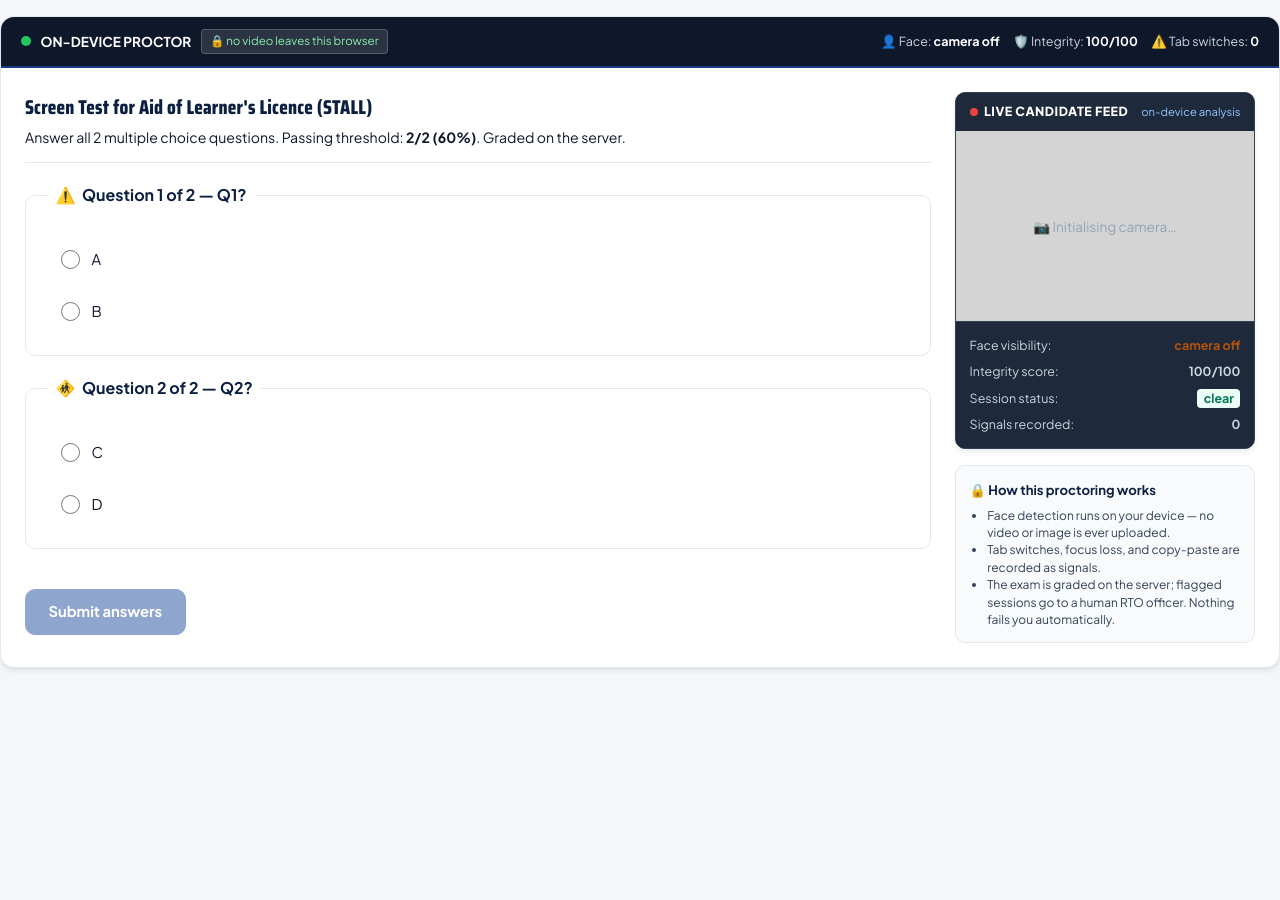
LLQuiz (server-graded) › passes the returned journey state up when the server says passed
The image size is (1280, 900).
Click the radio button labelled "A". click: coordinates (70, 259)
box: [61,250,80,269]
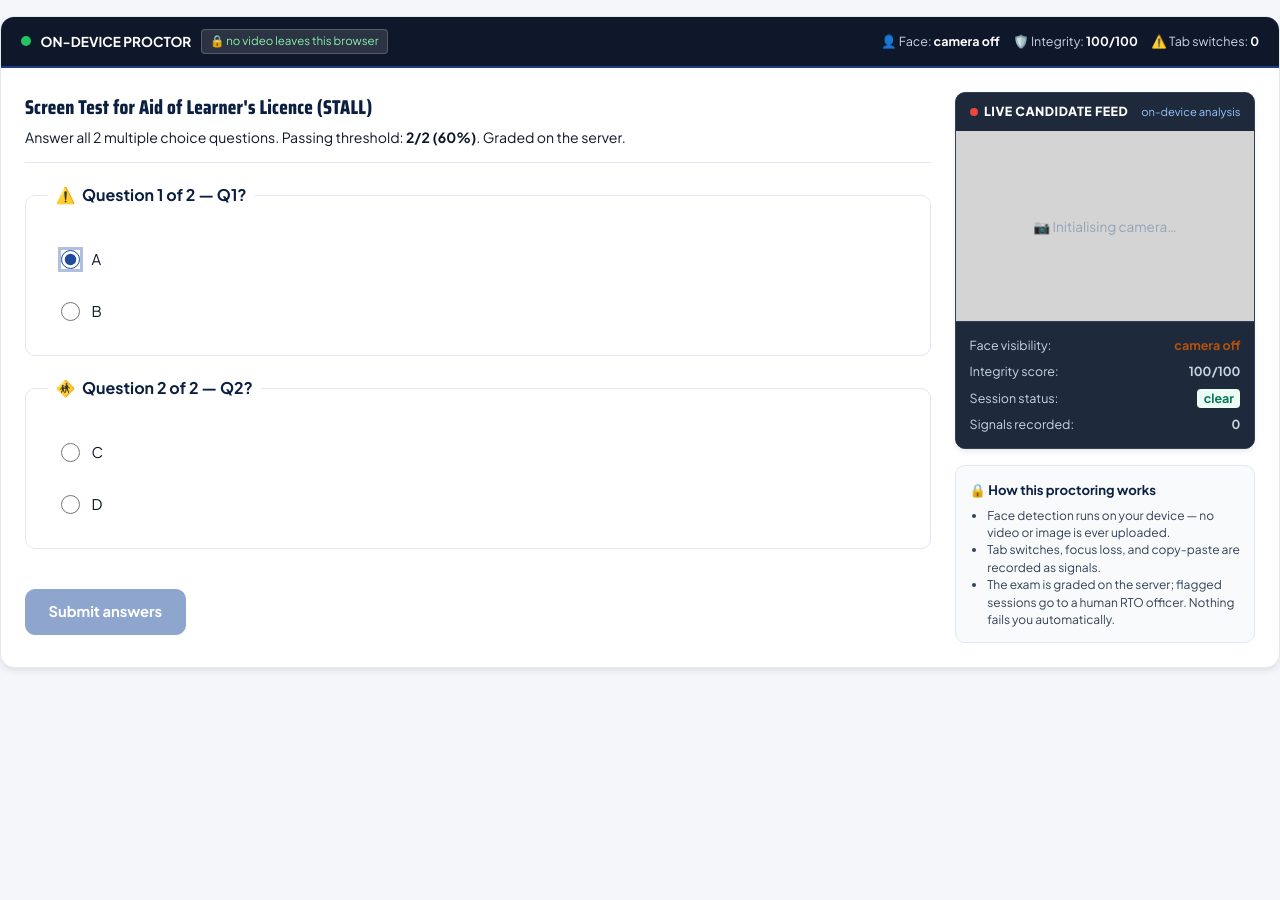
Click the radio button labelled "D". click: coordinates (70, 504)
box: [61,495,80,514]
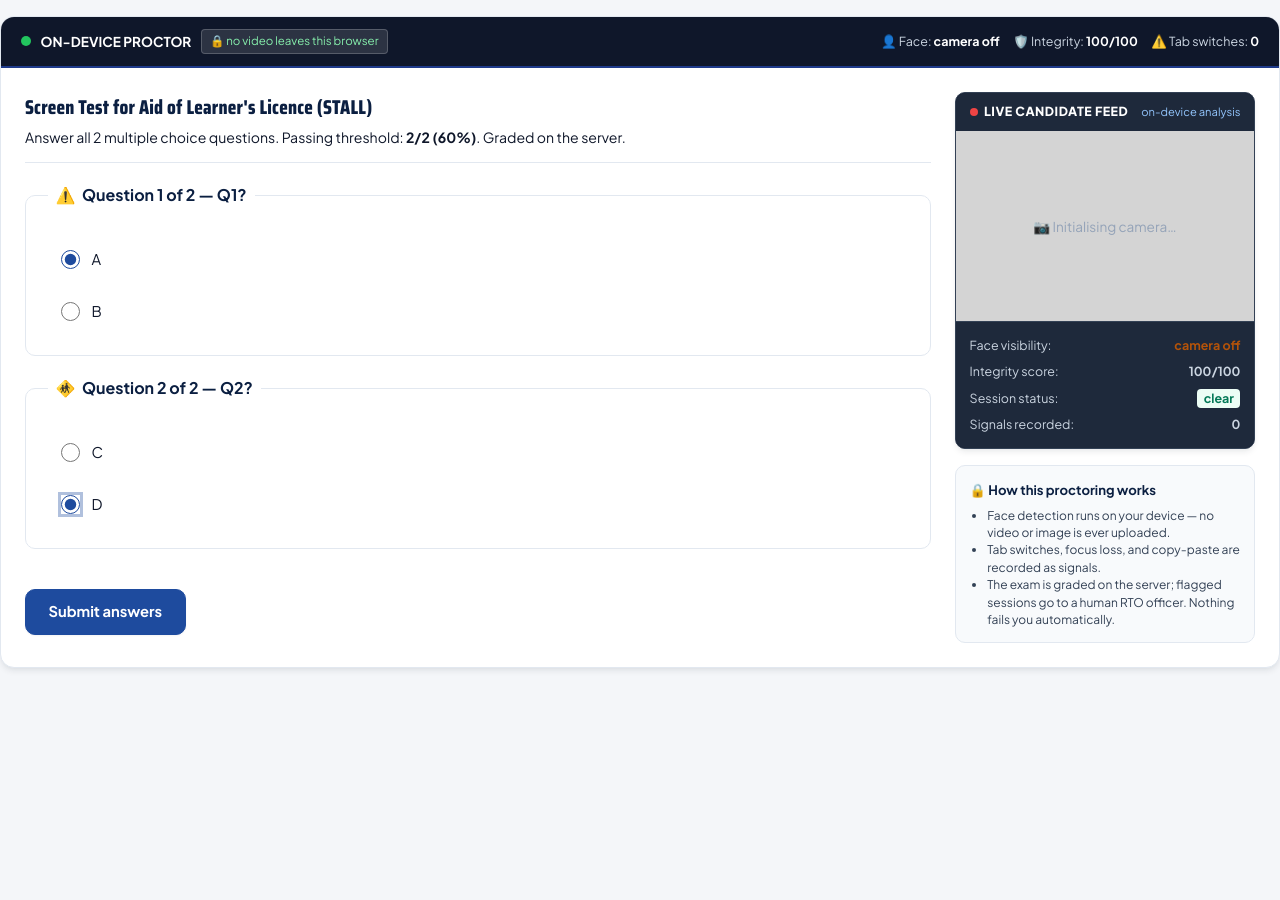
Click the button "Submit answers". click: coordinates (105, 612)
box: [25,589,186,635]
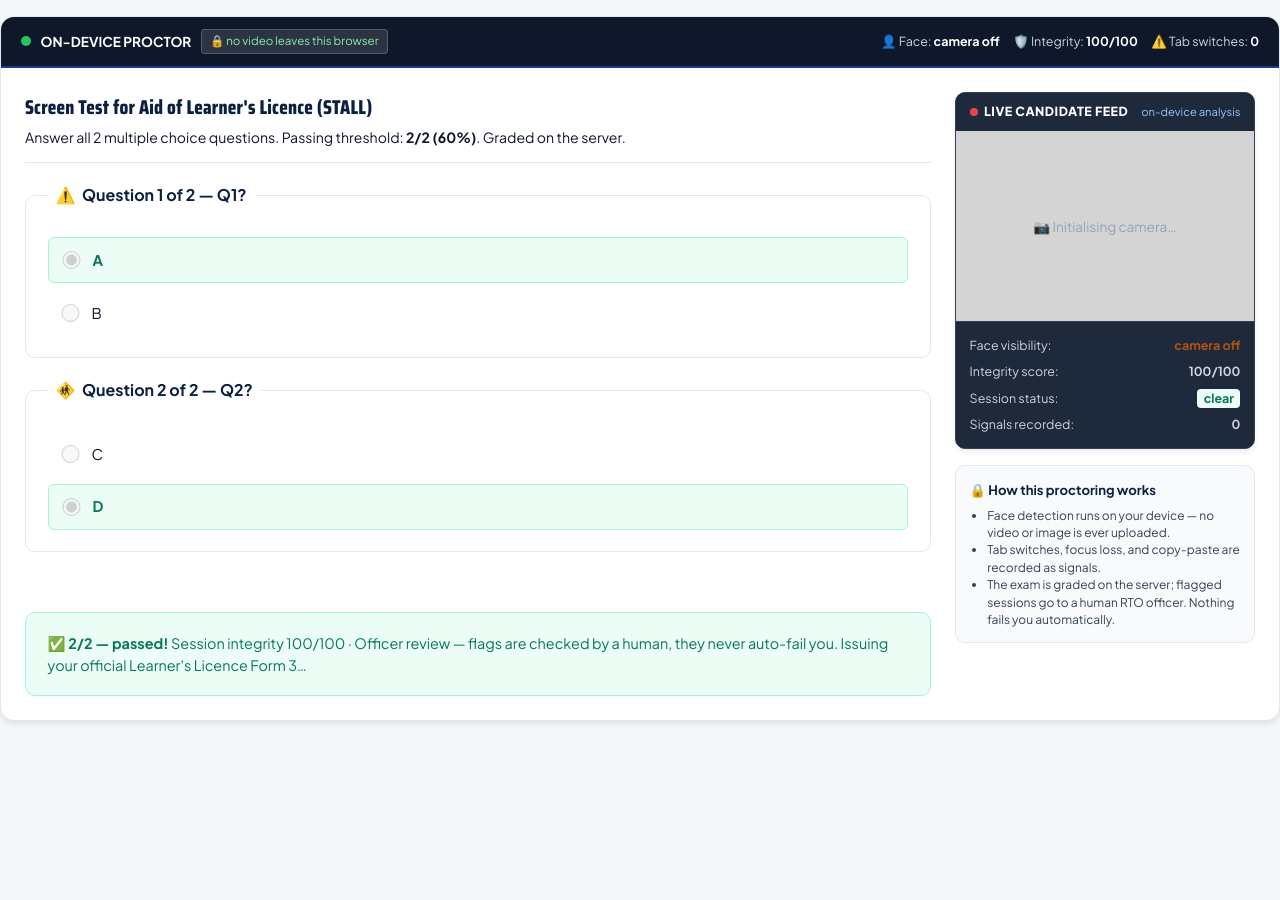
Check: the message shows "passed", box [93,634,168,652]
